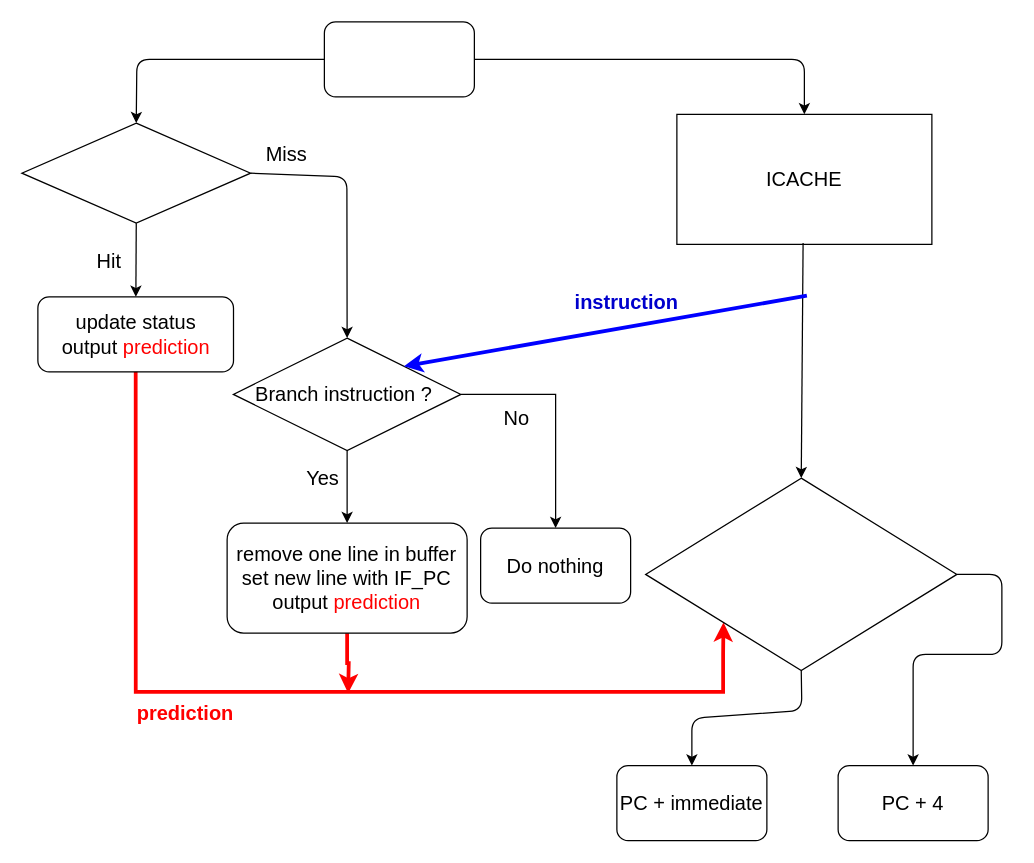
This 1034x863 diagram has some shape labels left out. The shapes that lost their labels are listed below. From the top down, each one's centre as x and y in pixels, then its label:
pixel 398 59: IF_PC
pixel 136 172: Hit or Miss
pixel 800 574: (Prediction && Branch) || Jal
